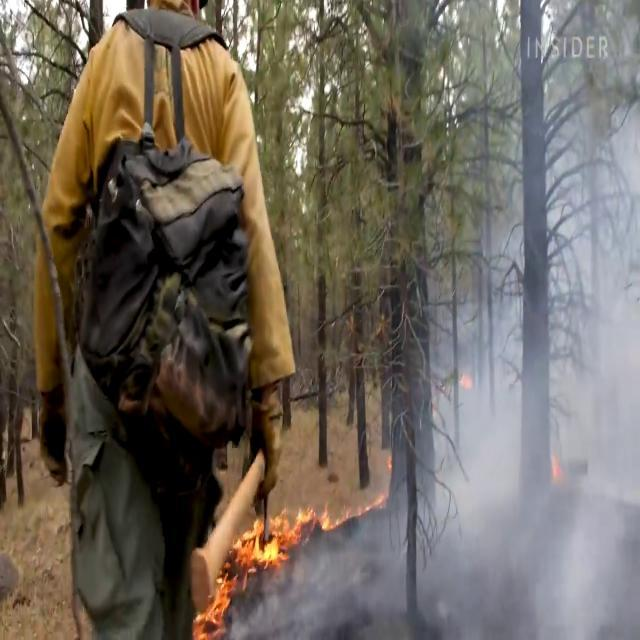Fire: (237, 490, 349, 572), (196, 568, 236, 632)
Smoke: (415, 35, 640, 640)
